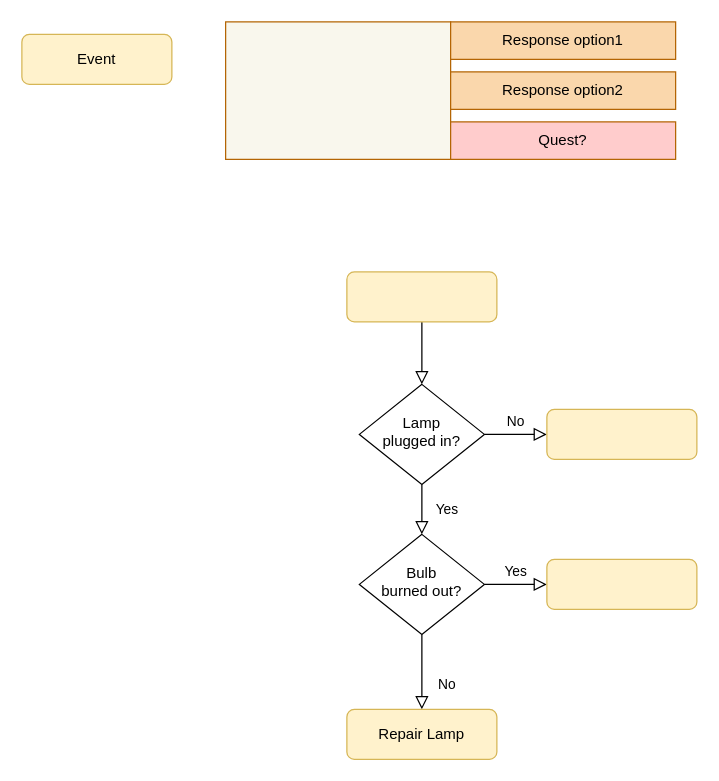
This 719x781 diagram has some shape labels left out. The box of each missing label's shape, as (x1, y1, x2, y2) in pixels:
Dialogue chat: (224, 21, 451, 159)
Lamp doesn't work: (346, 271, 497, 322)
Plug in lamp: (546, 408, 697, 459)
Replace Bulb: (546, 558, 697, 609)
